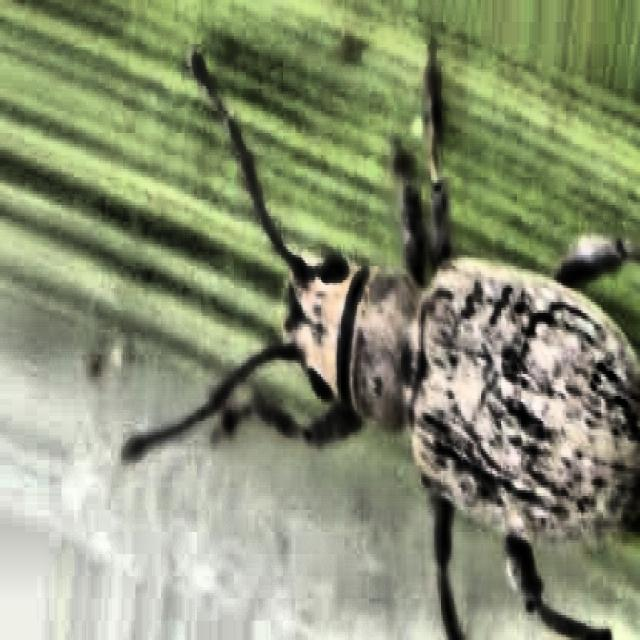Stink bug: (159, 90, 639, 630)
